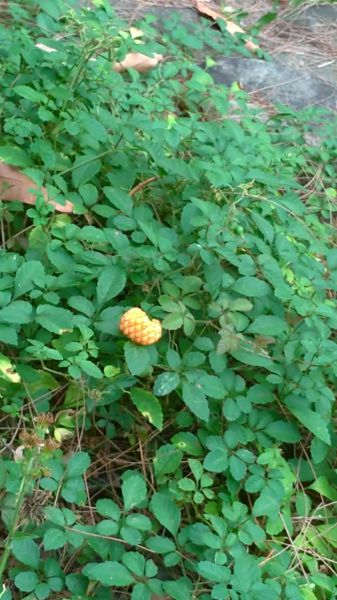eggs: (118, 302, 165, 351)
